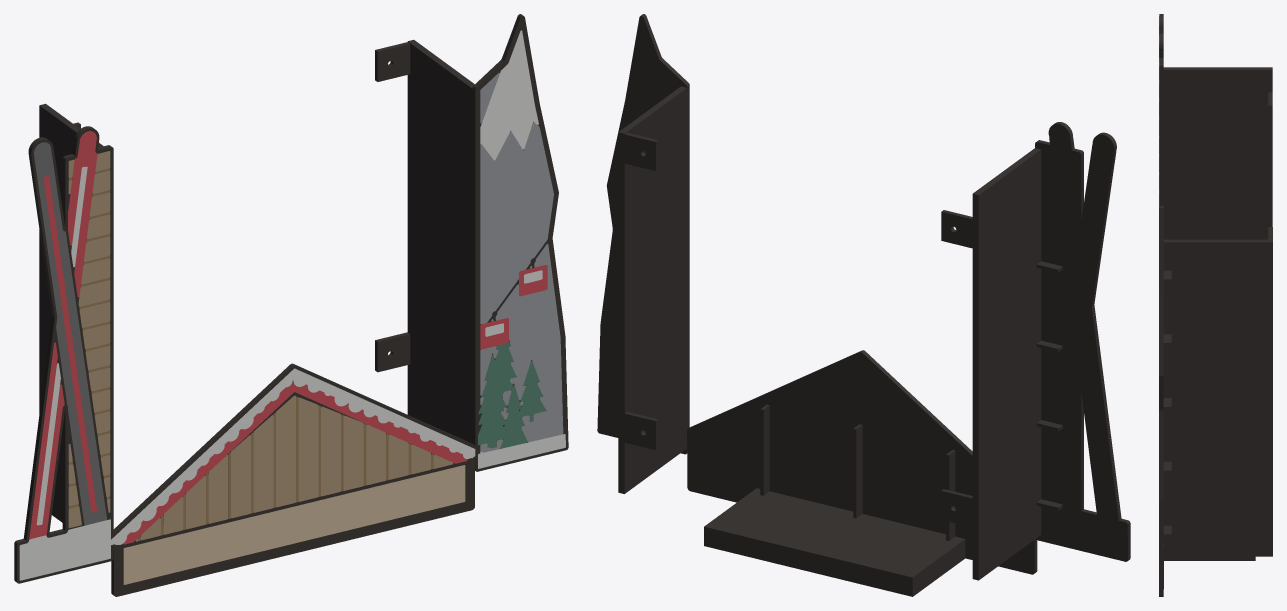
Rendered from parts.glb.
The picture shows the model from 3 angles, left to right: view 1: azimuth 30°, elevation 25°; view 2: azimuth 150°, elevation 25°; view 3: azimuth 270°, elevation 25°; orthographic projection. The views are drawn at different scales.
Visible parts, largest first — view 1: wing_right__base, wing_right__stone, topper__fur, topper__tan, wing_left__base, topper__base, wing_left__fur, wing_left__red, wing_left__grey, wing_right__white, wing_left__white, topper__white (+5 smaller); view 2: wing_left__base, topper__base, wing_right__base; view 3: wing_right__base, wing_left__base, topper__base.
Boxes of the visible parts, x1,y1,x2,y2 form: wing_right__base: (375,14,568,471); wing_right__stone: (480,73,563,452); topper__fur: (135,395,453,541); topper__tan: (123,465,465,584); wing_left__base: (14,103,113,583); topper__base: (111,363,475,596); wing_left__fur: (68,151,110,528); wing_left__red: (29,131,97,539); wing_left__grey: (34,142,106,525); wing_right__white: (478,30,565,468); wing_left__white: (19,166,110,580); topper__white: (111,368,482,544); wing_left__base: (941,122,1130,580); topper__base: (687,350,1045,596); wing_right__base: (597,14,689,493); wing_right__base: (1159,205,1272,596); wing_left__base: (1159,14,1272,239); topper__base: (1163,544,1255,588).
Bounding box in the file's own units: 343 × 286 × 73.01.
